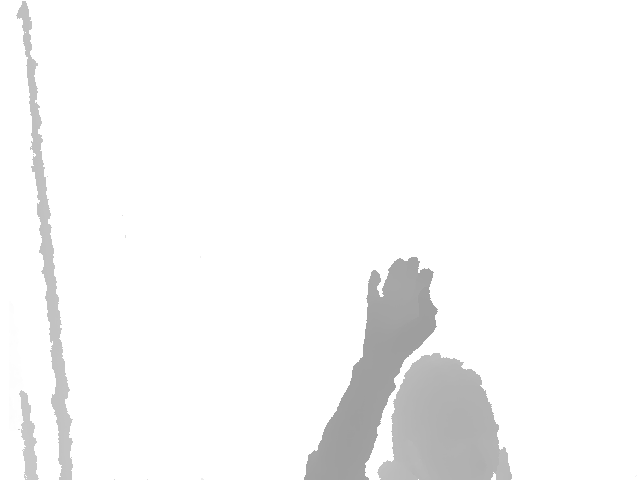hand: (366, 256, 438, 353)
head: (390, 353, 501, 480)
person: (303, 256, 513, 480)
